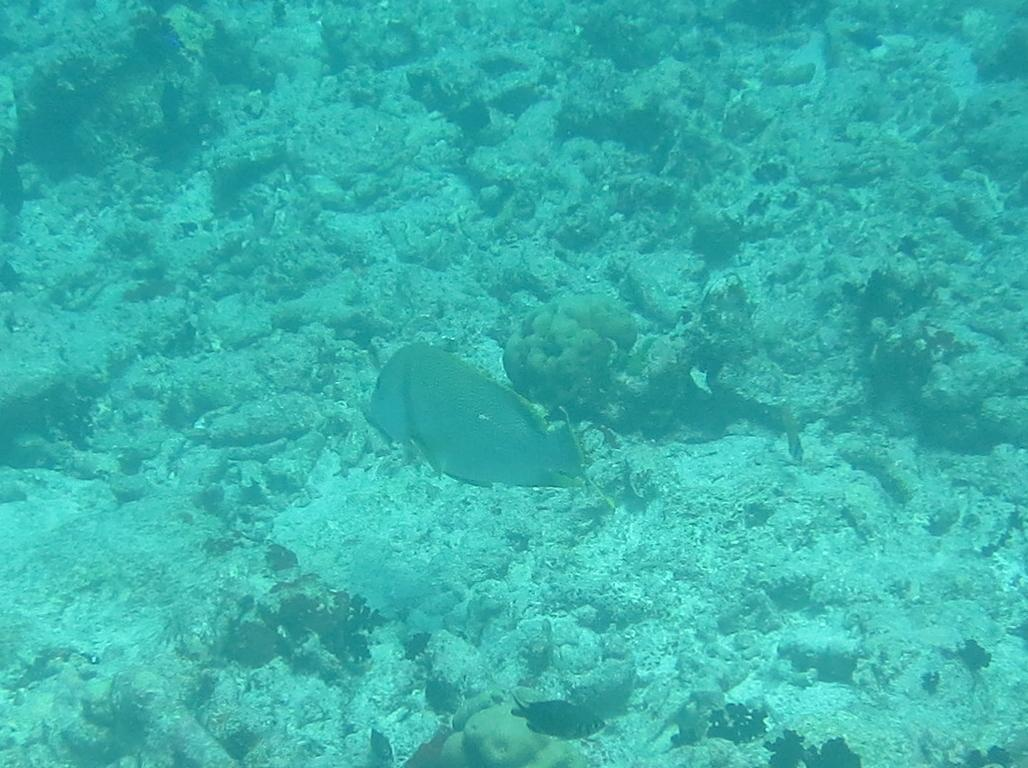Fish: (335, 338, 638, 516)
